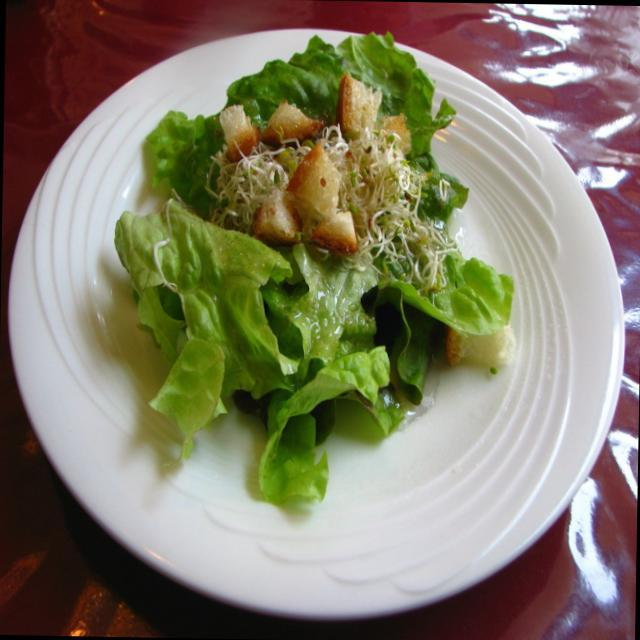Green Salad: (125, 16, 494, 481)
